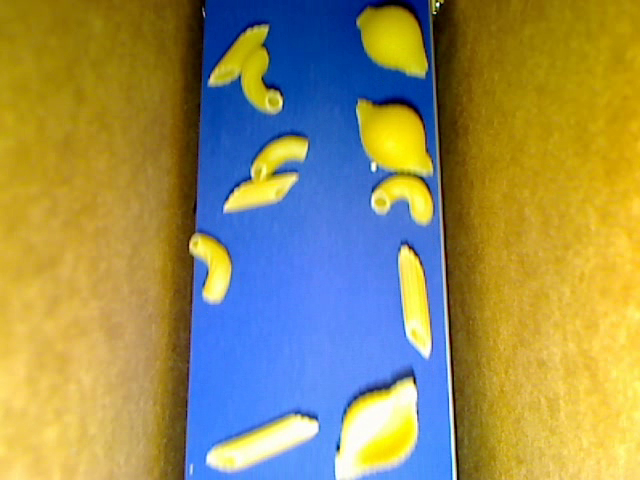elbow: (370, 174, 433, 225), (189, 232, 232, 305), (241, 47, 283, 114), (250, 134, 308, 182)
penne: (203, 414, 319, 470), (397, 243, 433, 359), (208, 24, 267, 86), (222, 172, 297, 211)
shell: (333, 374, 419, 479), (355, 96, 433, 175), (356, 6, 428, 78)
